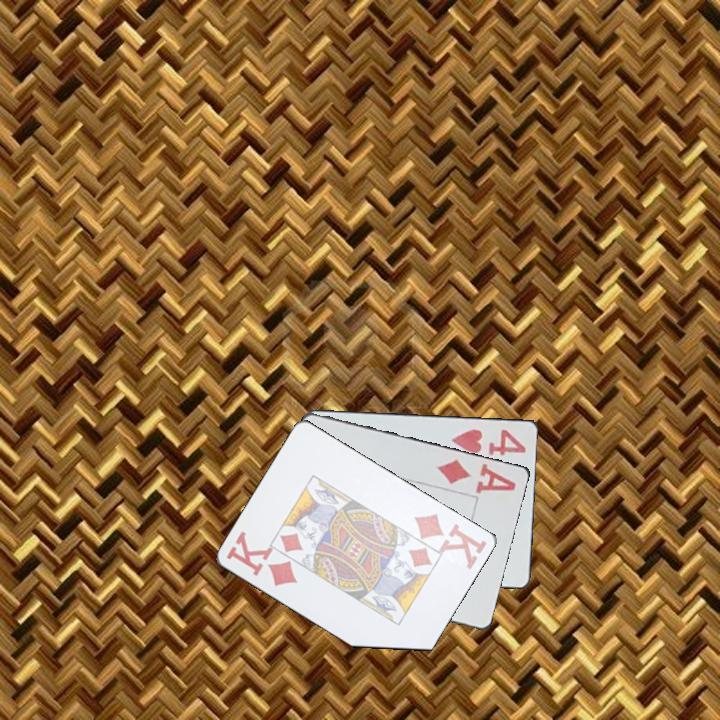4h: (448, 425, 529, 458)
Ad: (433, 455, 519, 496)
Kd: (411, 509, 490, 570), (223, 529, 301, 589)
